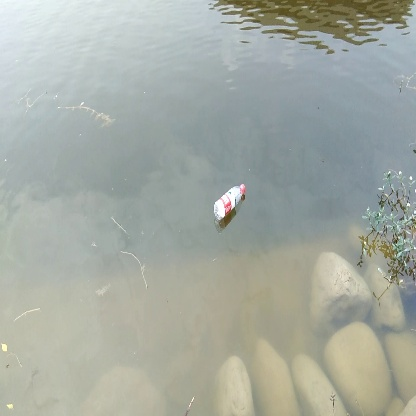bottle: (211, 182, 250, 224)
